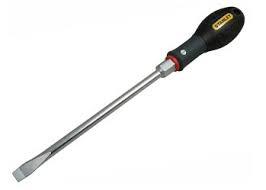Screwdriver: (7, 4, 250, 190)
